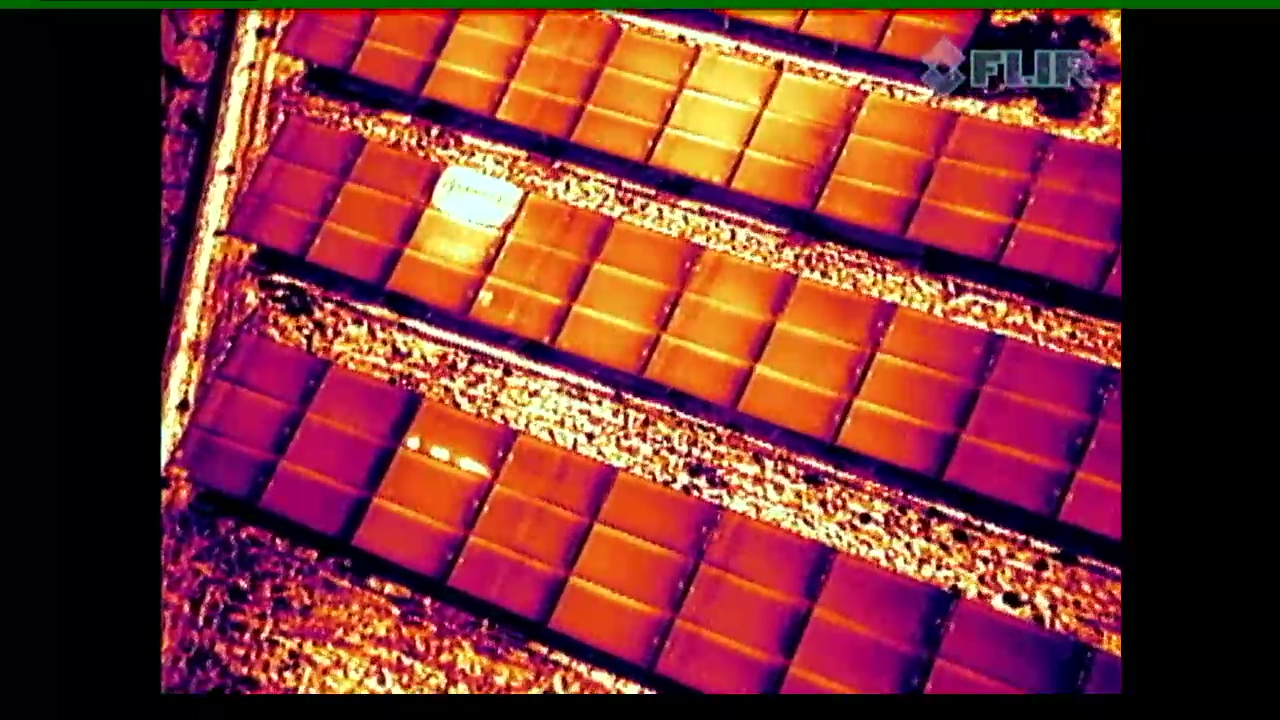hotspot: (345, 408, 513, 580)
